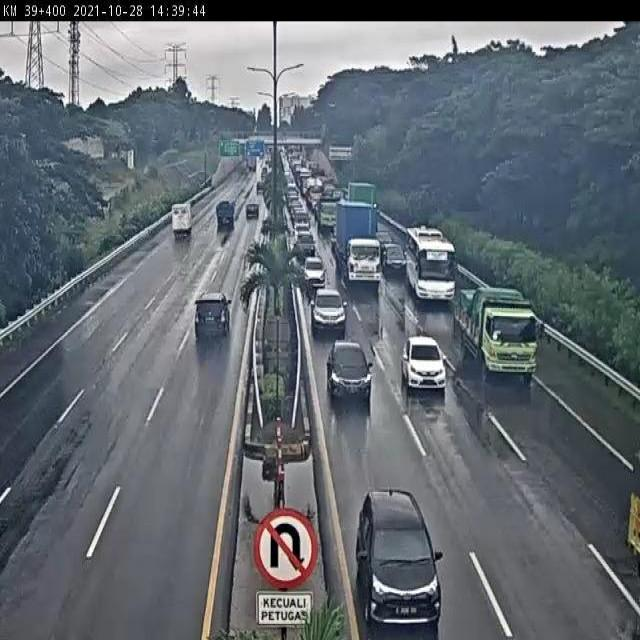big bus: (405, 225, 456, 300)
big truck: (336, 198, 381, 282)
car: (354, 488, 444, 629), (326, 343, 373, 401), (401, 337, 446, 392), (309, 288, 346, 335), (195, 290, 231, 338), (381, 237, 406, 272), (301, 252, 324, 285)
mid truck: (457, 284, 539, 379)
small truck: (171, 200, 194, 241), (211, 198, 236, 230)
